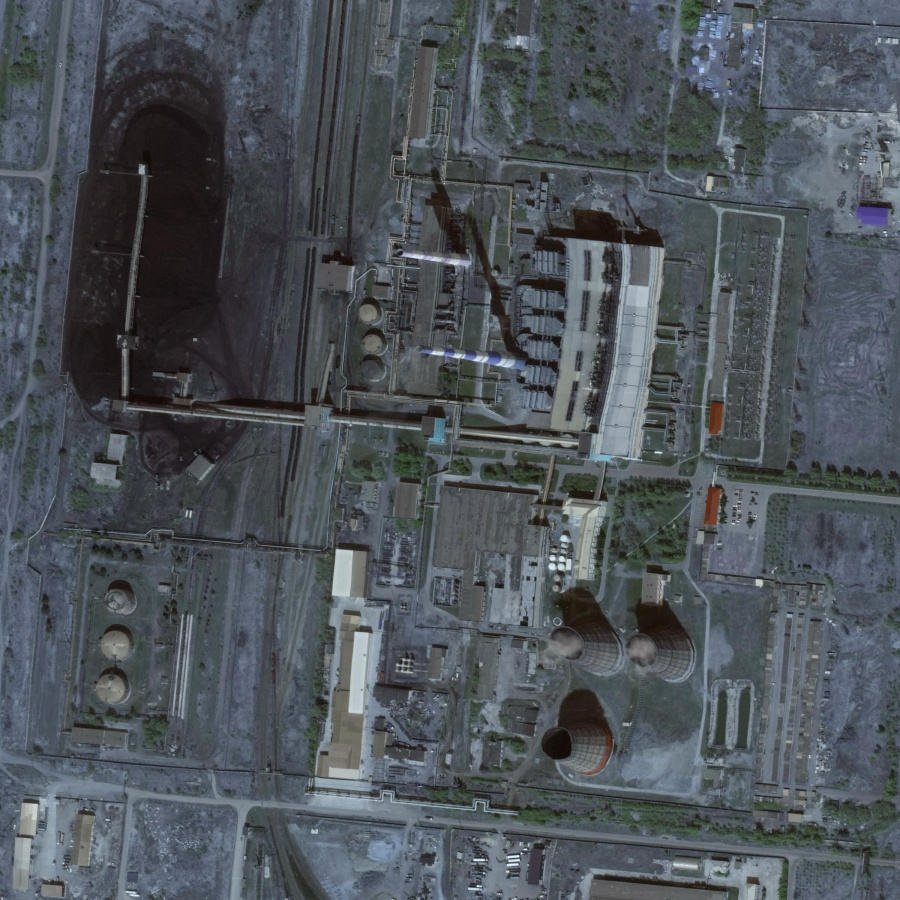PowerPlant: (53, 69, 371, 478), (377, 156, 566, 418), (533, 558, 722, 813), (55, 522, 203, 764)
